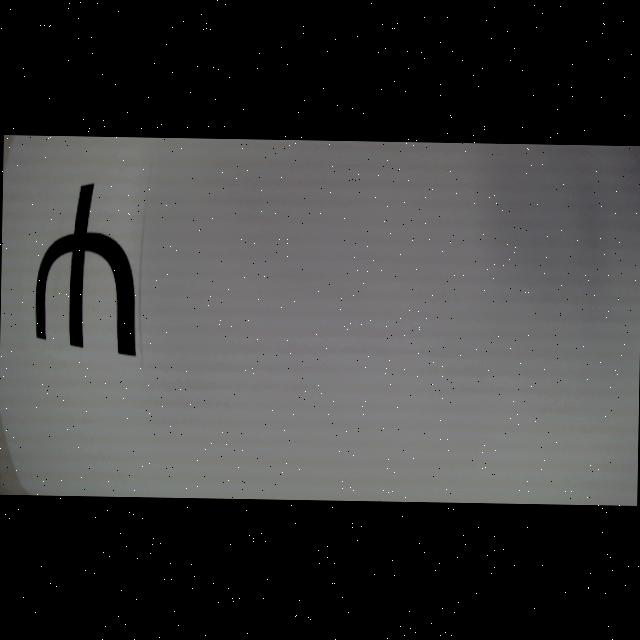PSI: (34, 181, 140, 357)
